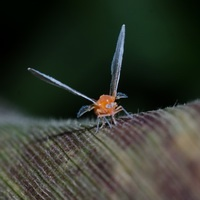insect: (27, 24, 131, 131)
